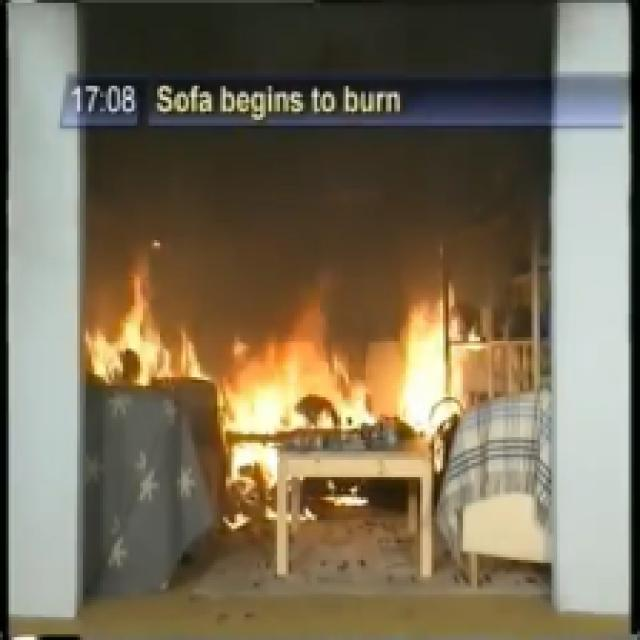Fire: (97, 297, 496, 433)
